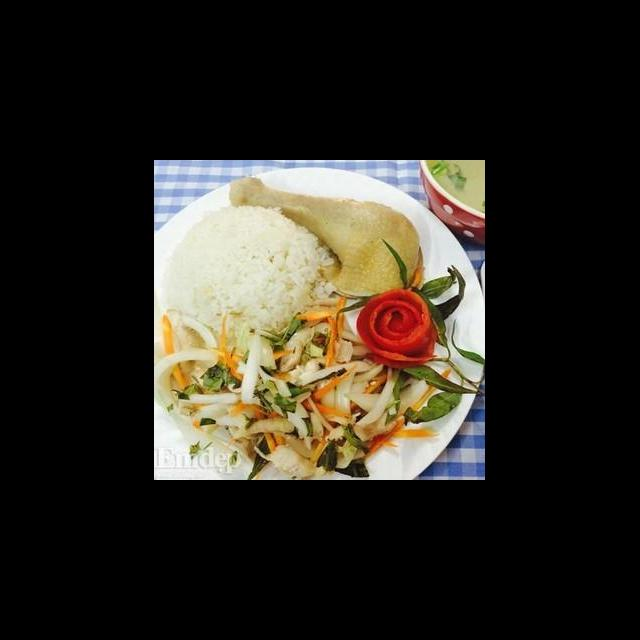com: (156, 202, 342, 343)
com ga: (158, 181, 486, 480)
rau ram: (388, 315, 486, 429), (408, 262, 470, 350), (248, 310, 306, 350), (380, 236, 412, 291)
thit ga: (226, 173, 424, 300)
